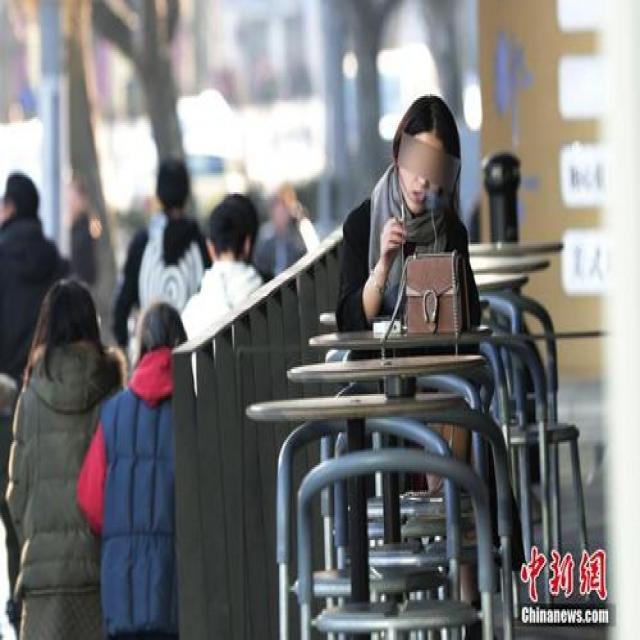smoke: (392, 194, 408, 221)
